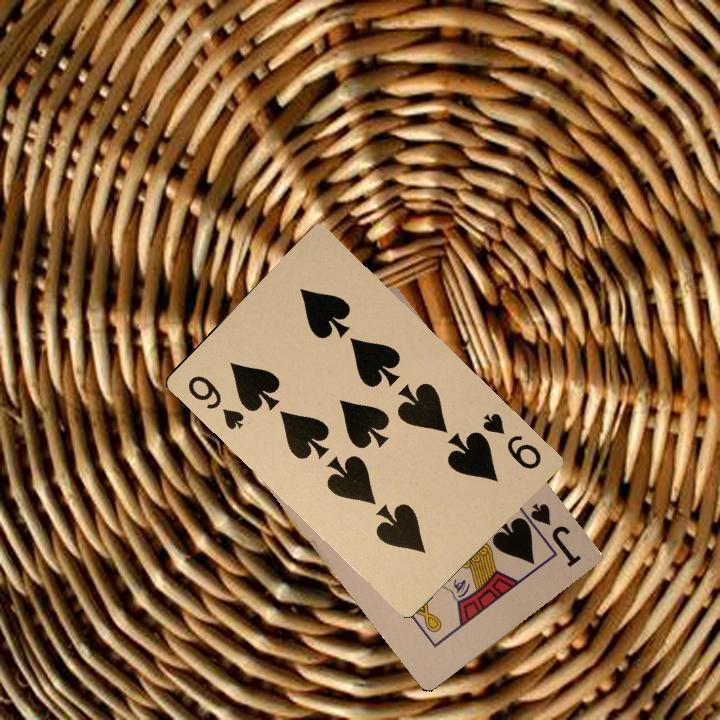9s: (478, 408, 544, 472), (183, 371, 247, 433)
Js: (516, 498, 586, 570)
